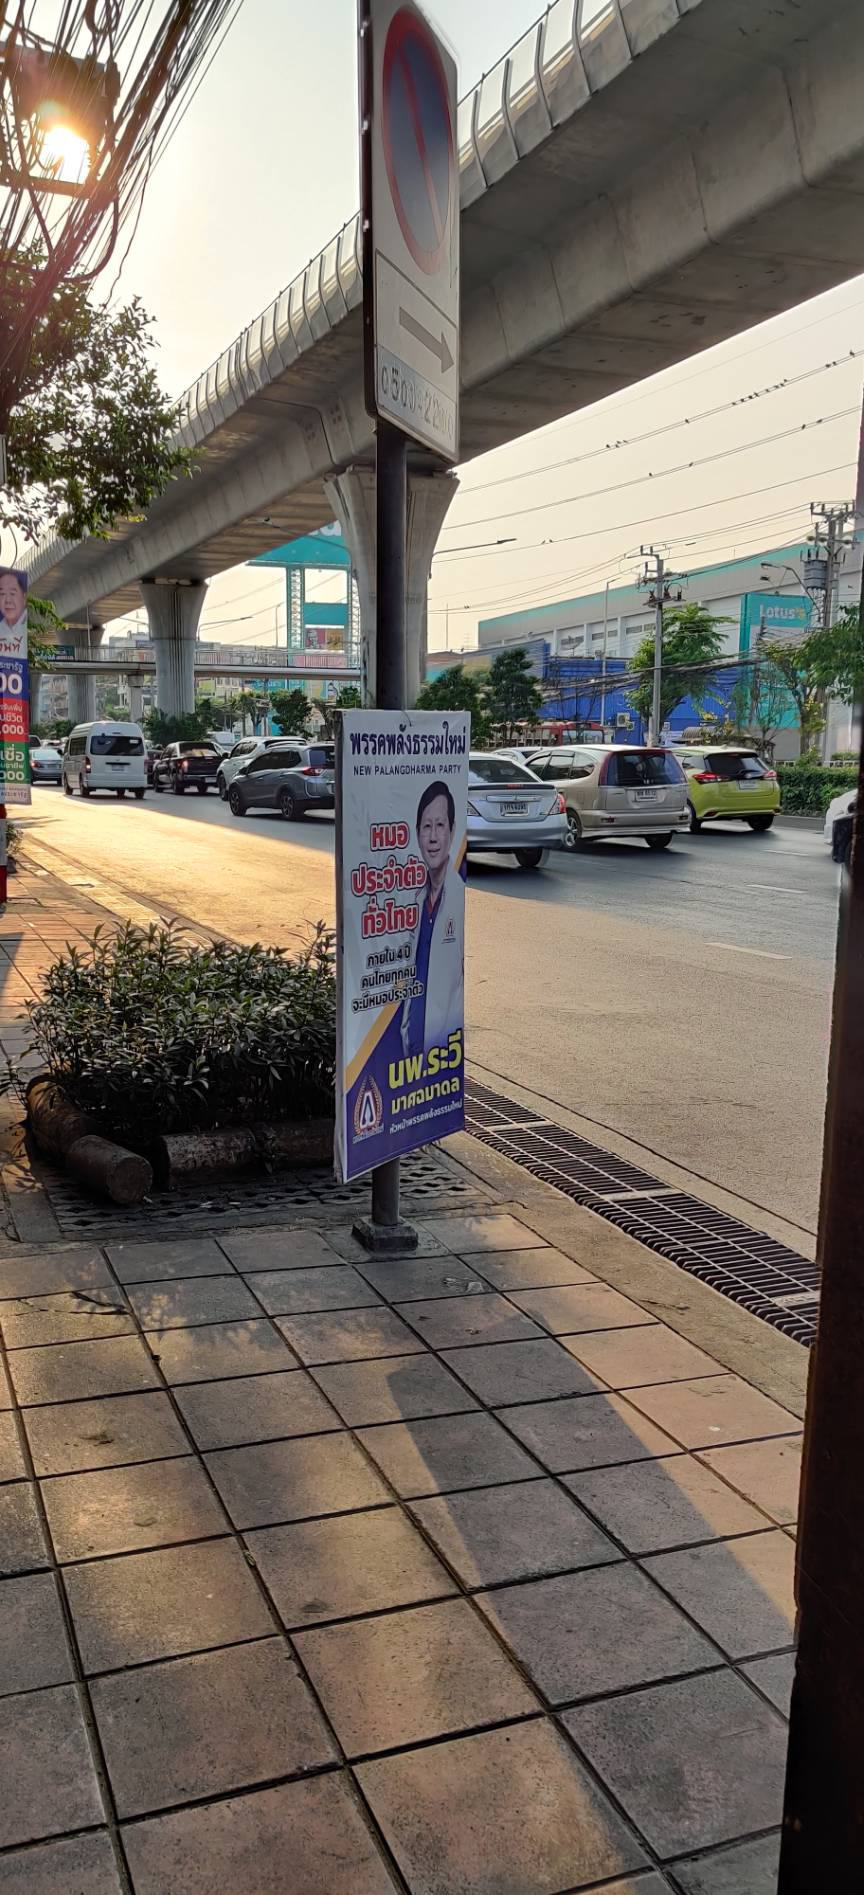Banner: (334, 697, 479, 1160)
